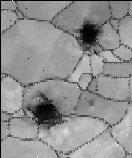good_void: (22, 89, 67, 129), (70, 14, 103, 51), (87, 97, 94, 106), (93, 47, 98, 55), (61, 94, 66, 99)
